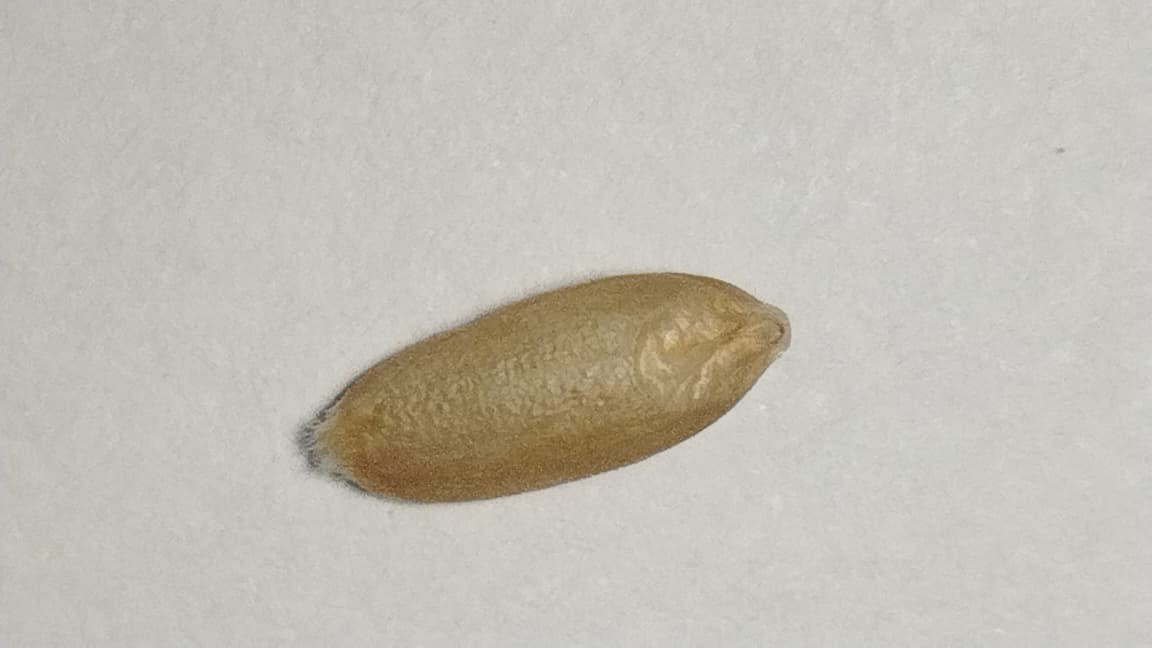healthy: (305, 272, 788, 501)
